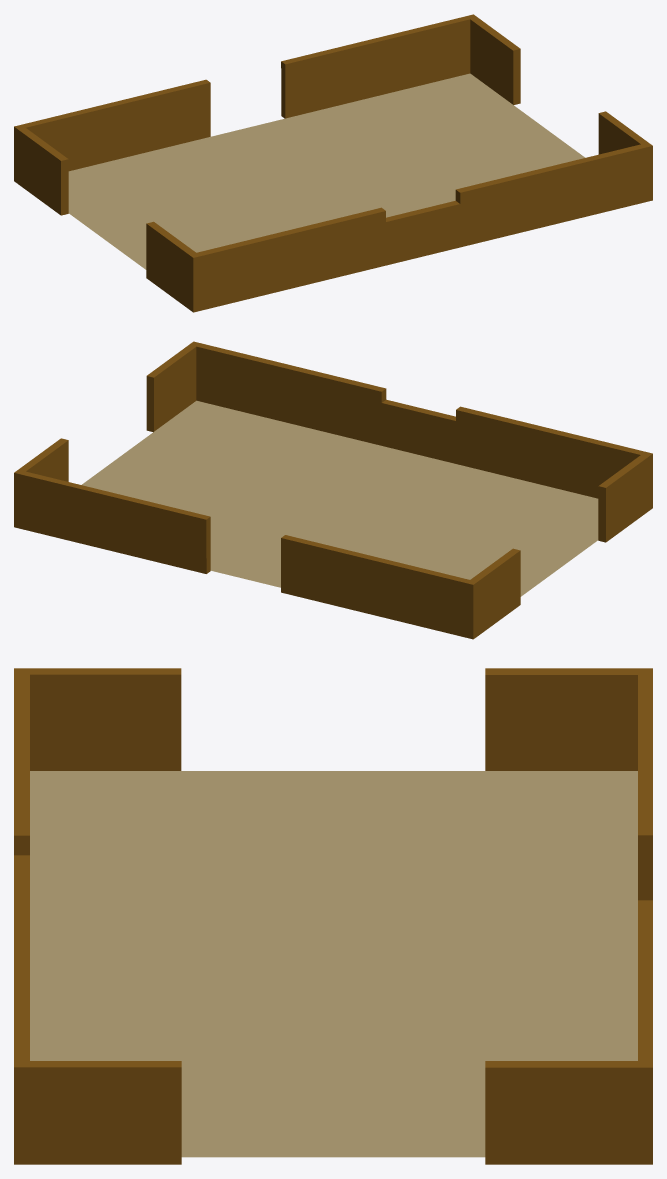
File: Layout Empty.fbx
3 renders of one model, top to bottom at view 1: azimuth 30°, elevation 25°; view 2: azimuth 150°, elevation 25°; view 3: azimuth 270°, elevation 25°, orthographic. The views are drawn at different scales.
Parts seen in each view (by area): view 1: Cube, Plane, Cube.001; view 2: Cube, Plane, Cube.001; view 3: Plane, Cube, Cube.001.
Boxes of the visible parts, x1,y1,x2,y2 form: Cube: [14, 14, 652, 312]; Plane: [68, 73, 585, 269]; Cube.001: [386, 200, 460, 265]; Cube: [14, 341, 652, 639]; Plane: [82, 400, 598, 596]; Cube.001: [381, 399, 455, 463]; Plane: [30, 771, 637, 1157]; Cube: [14, 668, 652, 1164]; Cube.001: [14, 855, 29, 899].
Bounding box in the file's own units: 1238 × 141 × 837.
